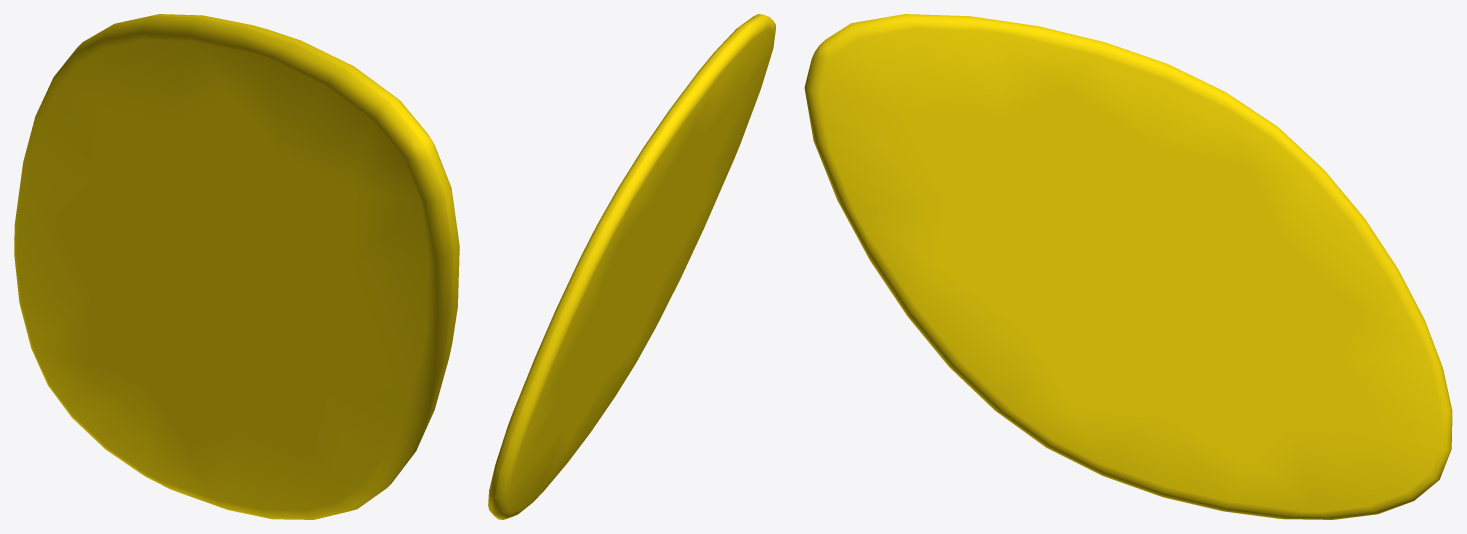
Rendered from fallLeaf_5.glb.
3 views of the same model, side by side, from view 1: azimuth 30°, elevation 25°; view 2: azimuth 150°, elevation 25°; view 3: azimuth 270°, elevation 25° (orthographic). The views are drawn at different scales.
Parts seen in each view (by area): view 1: Leaf_LightGreen_Standard.235; view 2: Leaf_LightGreen_Standard.235; view 3: Leaf_LightGreen_Standard.235.
Part boxes in pixels (box(x1,y1,x2,y2)): Leaf_LightGreen_Standard.235: box(14, 14, 459, 519); Leaf_LightGreen_Standard.235: box(488, 14, 775, 519); Leaf_LightGreen_Standard.235: box(804, 14, 1452, 519).
Bounding box in the file's own units: 0.3244 × 1.36 × 1.69.
